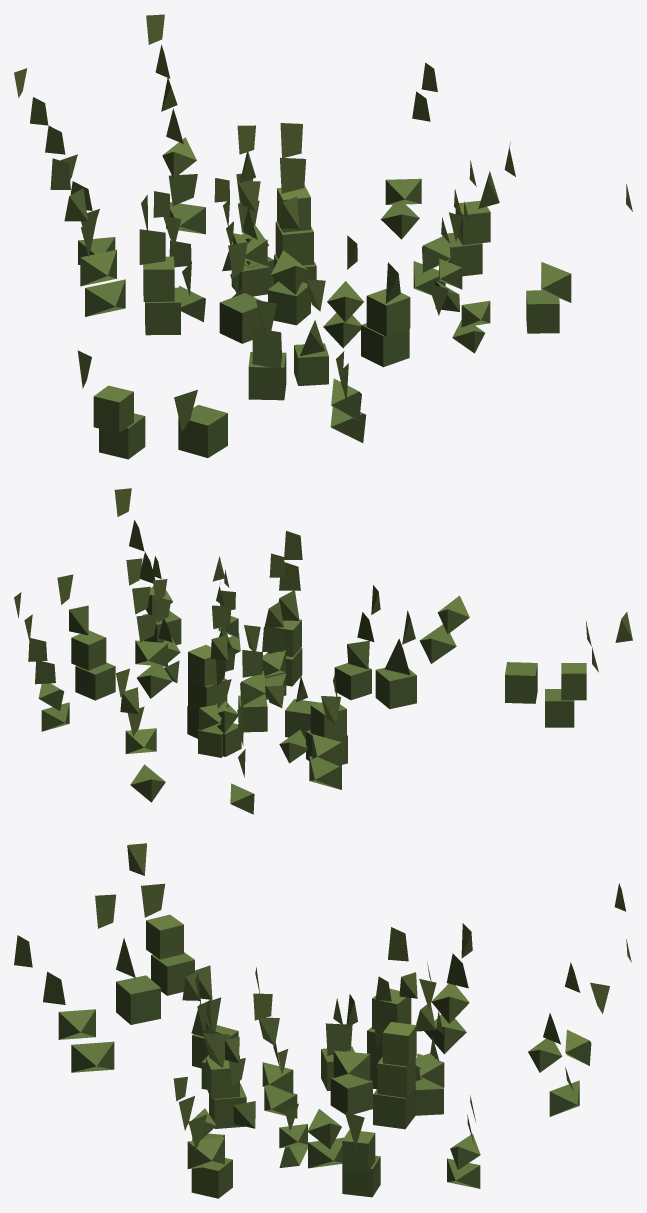
File: grass_a.glb
3 views of the same model, one above another, from view 1: azimuth 30°, elevation 25°; view 2: azimuth 150°, elevation 25°; view 3: azimuth 270°, elevation 25° (orthographic). The views are drawn at different scales.
Parts seen in each view (by area): view 1: GrassA; view 2: GrassA; view 3: GrassA.
Boxes of the visible parts, box(x1,y1,x2,y2) form: GrassA: box(14, 14, 632, 459); GrassA: box(14, 488, 632, 814); GrassA: box(14, 843, 631, 1198).
Size of the model in its own units: 2.2 by 0.6948 by 2.17.
